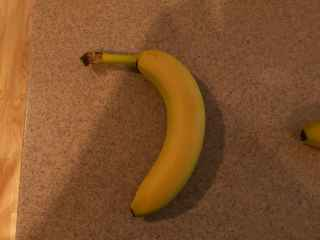banana: (79, 46, 209, 222)
